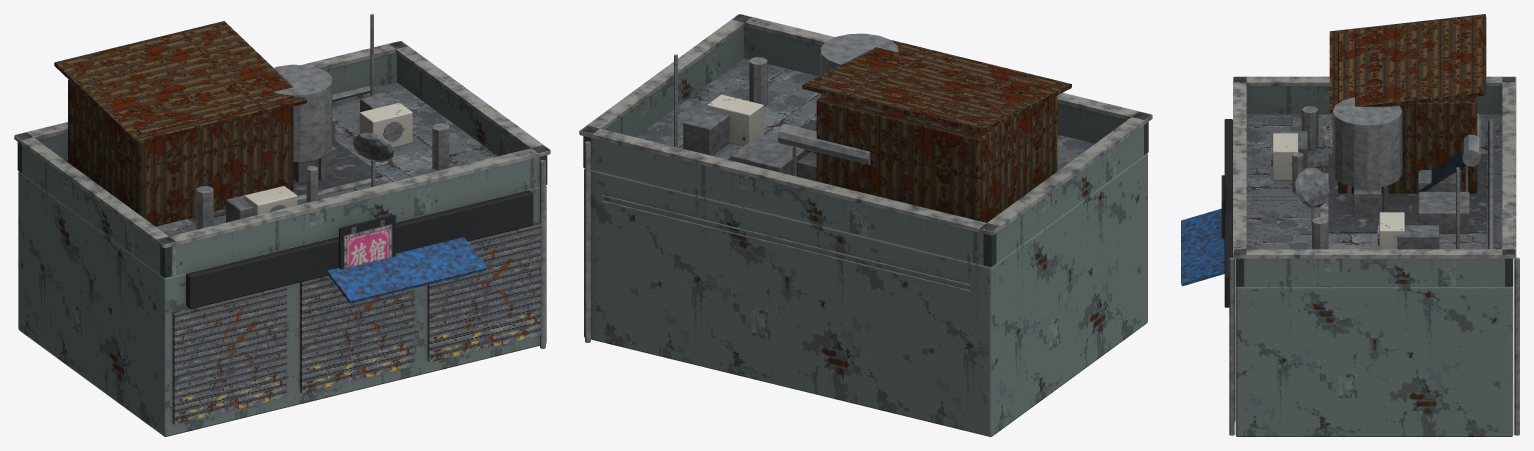
The model's file is city_row_low_b_worn.glb.
3 renders of one model, left to right at view 1: azimuth 30°, elevation 25°; view 2: azimuth 150°, elevation 25°; view 3: azimuth 270°, elevation 25°, orthographic. The views are drawn at different scales.
Parts seen in each view (by area): view 1: city_row_low_b_worn; view 2: city_row_low_b_worn; view 3: city_row_low_b_worn.
Part boxes in pixels (x1,y1,x2,y2): city_row_low_b_worn: (14, 14, 550, 436); city_row_low_b_worn: (579, 14, 1152, 436); city_row_low_b_worn: (1181, 14, 1519, 436).
Bounding box in the file's own units: 9.12 × 6.15 × 7.32.
13 materials, 13 textured.
